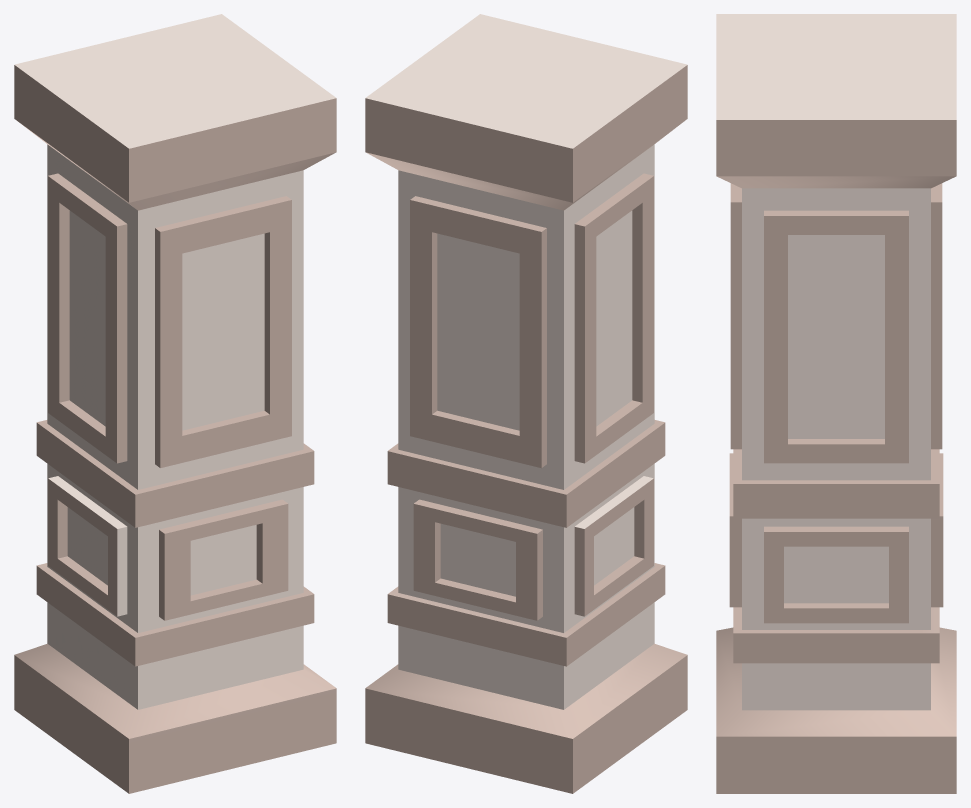
Rendered from Pillar_1x3x1.fbx.
3 views of the same model, side by side, from view 1: azimuth 30°, elevation 25°; view 2: azimuth 150°, elevation 25°; view 3: azimuth 270°, elevation 25° (orthographic). The views are drawn at different scales.
Parts seen in each view (by area): view 1: Pillar_; view 2: Pillar_; view 3: Pillar_.
Part boxes in pixels (left/top/right/bottom): Pillar_: left=14, top=14, right=336, bottom=793; Pillar_: left=365, top=14, right=687, bottom=793; Pillar_: left=716, top=14, right=956, bottom=793.
Bounding box in the file's own units: 101 × 300 × 96.9.
